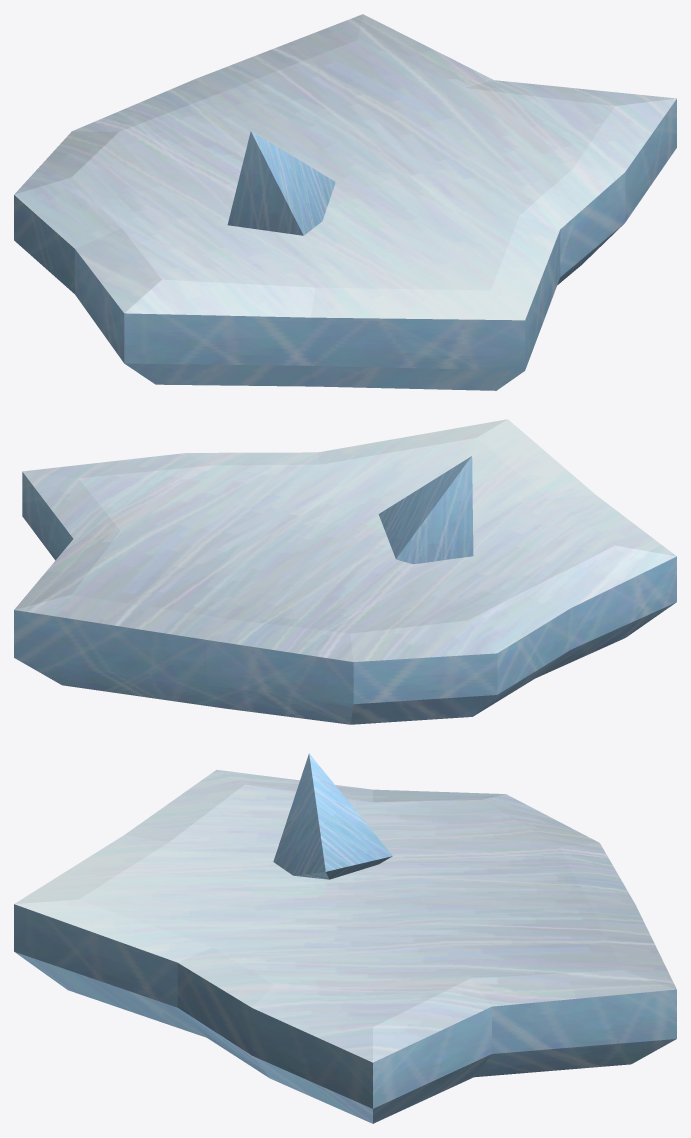
Rendered from AT_IceFloe.fbx.
3 renders of one model, top to bottom at view 1: azimuth 30°, elevation 25°; view 2: azimuth 150°, elevation 25°; view 3: azimuth 270°, elevation 25°, orthographic. The views are drawn at different scales.
Parts seen in each view (by area): view 1: Floe, Ridge; view 2: Floe, Ridge; view 3: Floe, Ridge.
Part boxes in pixels (left/top/right/bottom): Floe: left=14, top=14, right=676, bottom=390; Ridge: left=227, top=131, right=335, bottom=235; Floe: left=14, top=419, right=676, bottom=724; Ridge: left=378, top=456, right=473, bottom=564; Floe: left=14, top=769, right=676, bottom=1123; Ridge: left=273, top=753, right=392, bottom=879.
Bounding box in the file's own units: 6.49 × 1.9 × 6.23.
Materials: 1 (1 with a texture image).
